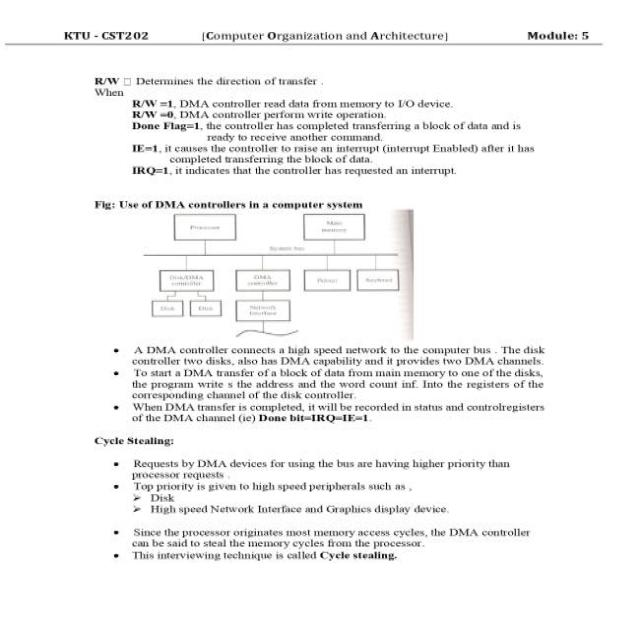Figure Detection - v3 Dataset Version2: (138, 209, 408, 341)
